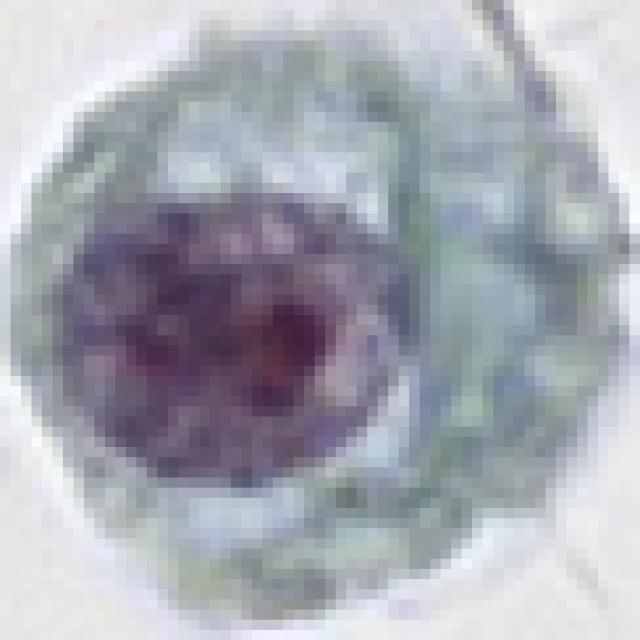nucleus: (42, 177, 438, 508)
